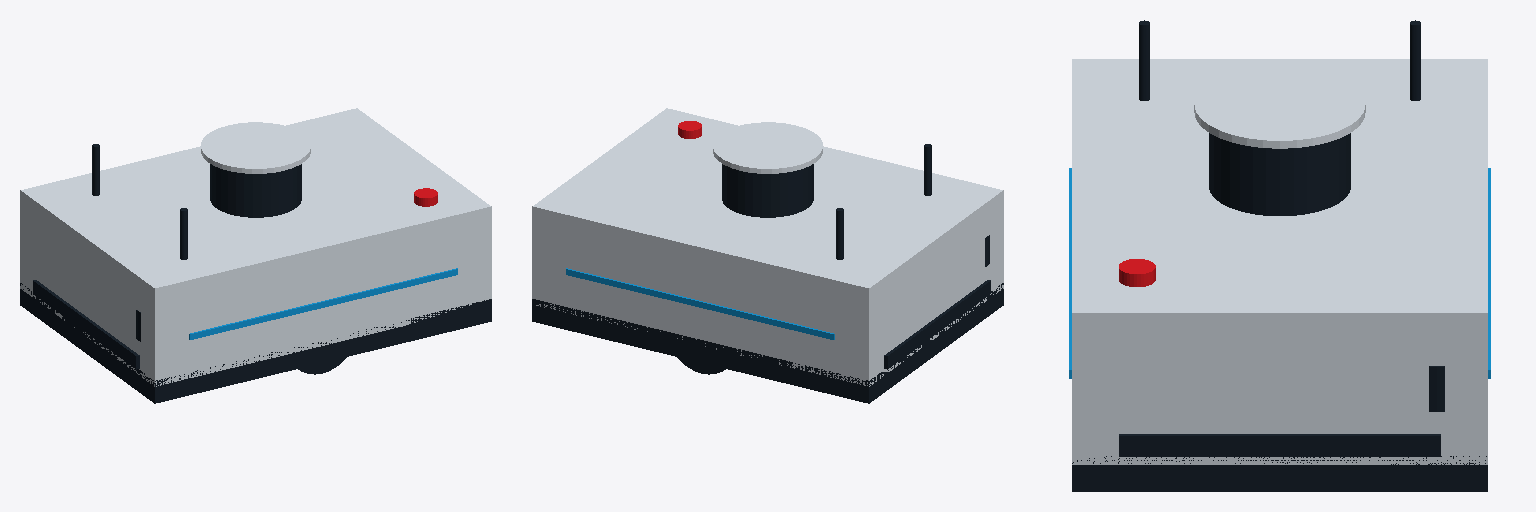
robot.urdf — SEER AMB-300XS - lightweight visual:
<?xml version='1.0' encoding='utf-8'?>
<robot name="SEER AMB-300XS - lightweight visual">
  <material name="white">
    <color rgba=".88 .91 .94 1" />
  </material>
  <material name="dark">
    <color rgba=".12 .16 .20 1" />
  </material>
  <material name="blue">
    <color rgba=".10 .63 .89 1" />
  </material>
  <material name="red">
    <color rgba=".90 .13 .16 1" />
  </material>
  <link name="base_link">
    <visual>
      <origin xyz="0 0 0.185" rpy="0 0 0" />
      <geometry>
        <box size="0.842 0.582 0.235" />
      </geometry>
      <material name="white" />
    </visual>
    <visual>
      <origin xyz="0 0 0.0545" rpy="0 0 0" />
      <geometry>
        <box size="0.842 0.582 0.055" />
      </geometry>
      <material name="dark" />
    </visual>
    <visual>
      <origin xyz="0 0 0.2935" rpy="0 0 0" />
      <geometry>
        <box size="0.73 0.48 0.018" />
      </geometry>
      <material name="white" />
    </visual>
    <visual>
      <origin xyz="0 -0.292 0.168" rpy="0 0 0" />
      <geometry>
        <box size="0.67 0.008 0.014" />
      </geometry>
      <material name="blue" />
    </visual>
    <visual>
      <origin xyz="0 0.292 0.168" rpy="0 0 0" />
      <geometry>
        <box size="0.67 0.008 0.014" />
      </geometry>
      <material name="blue" />
    </visual>
    <visual>
      <origin xyz="-0.423 0 0.1" rpy="0 0 0" />
      <geometry>
        <box size="0.012 0.45 0.032" />
      </geometry>
      <material name="dark" />
    </visual>
    <visual>
      <origin xyz="-0.37224 -0.22 0.18543" rpy="0 0 0" />
      <geometry>
        <cylinder radius="0.05" length="0.07" />
      </geometry>
      <material name="dark" />
    </visual>
    <visual>
      <origin xyz="0.423 0 0.1" rpy="0 0 0" />
      <geometry>
        <box size="0.012 0.45 0.032" />
      </geometry>
      <material name="dark" />
    </visual>
    <visual>
      <origin xyz="0.37224 0.22 0.18543" rpy="0 0 0" />
      <geometry>
        <cylinder radius="0.05" length="0.07" />
      </geometry>
      <material name="dark" />
    </visual>
    <visual>
      <origin xyz="0 -0.268 0.09" rpy="1.5707963267948966 0 0" />
      <geometry>
        <cylinder radius="0.09" length="0.04" />
      </geometry>
      <material name="dark" />
    </visual>
    <visual>
      <origin xyz="0 -0.268 0.09" rpy="1.5707963267948966 0 0" />
      <geometry>
        <cylinder radius="0.054" length="0.042" />
      </geometry>
      <material name="blue" />
    </visual>
    <visual>
      <origin xyz="0 0.268 0.09" rpy="1.5707963267948966 0 0" />
      <geometry>
        <cylinder radius="0.09" length="0.04" />
      </geometry>
      <material name="dark" />
    </visual>
    <visual>
      <origin xyz="0 0.268 0.09" rpy="1.5707963267948966 0 0" />
      <geometry>
        <cylinder radius="0.054" length="0.042" />
      </geometry>
      <material name="blue" />
    </visual>
    <visual>
      <origin xyz="-0.3 -0.2 0.045" rpy="1.5707963267948966 0 0" />
      <geometry>
        <cylinder radius="0.045" length="0.026" />
      </geometry>
      <material name="dark" />
    </visual>
    <visual>
      <origin xyz="-0.3 0.2 0.045" rpy="1.5707963267948966 0 0" />
      <geometry>
        <cylinder radius="0.045" length="0.026" />
      </geometry>
      <material name="dark" />
    </visual>
    <visual>
      <origin xyz="0.3 -0.2 0.045" rpy="1.5707963267948966 0 0" />
      <geometry>
        <cylinder radius="0.045" length="0.026" />
      </geometry>
      <material name="dark" />
    </visual>
    <visual>
      <origin xyz="0.3 0.2 0.045" rpy="1.5707963267948966 0 0" />
      <geometry>
        <cylinder radius="0.045" length="0.026" />
      </geometry>
      <material name="dark" />
    </visual>
    <visual>
      <origin xyz="0.31 -0.2 0.313" rpy="0 0 0" />
      <geometry>
        <cylinder radius="0.026" length="0.02" />
      </geometry>
      <material name="red" />
    </visual>
    <visual>
      <origin xyz="-0.29 -0.19 0.355" rpy="0 0 0" />
      <geometry>
        <cylinder radius="0.008" length="0.13" />
      </geometry>
      <material name="dark" />
    </visual>
    <visual>
      <origin xyz="-0.29 0.19 0.355" rpy="0 0 0" />
      <geometry>
        <cylinder radius="0.008" length="0.13" />
      </geometry>
      <material name="dark" />
    </visual>
    <visual>
      <origin xyz="0 0 0.3625" rpy="0 0 0" />
      <geometry>
        <cylinder radius="0.1" length="0.12" />
      </geometry>
      <material name="dark" />
    </visual>
    <visual>
      <origin xyz="0 0 0.4225" rpy="0 0 0" />
      <geometry>
        <cylinder radius="0.12" length="0.012" />
      </geometry>
      <material name="white" />
    </visual>
  </link>
</robot>

--- Render facts (derived) ---
3 views of the same robot in one strip: view 1: azimuth 30°, elevation 25°; view 2: azimuth 150°, elevation 25°; view 3: azimuth 270°, elevation 25° (orthographic).
Model SEER AMB-300XS - lightweight visual with 1 links and 0 joints (none), rooted at base_link, posed every joint at zero.
Visible links, largest first — view 1: base_link; view 2: base_link; view 3: base_link.
Link boxes in pixels (box(x1,y1,x2,y2)): base_link: box(20, 108, 491, 403); base_link: box(532, 108, 1003, 403); base_link: box(1069, 20, 1490, 491).
Size in the robot's own frame: 0.858 by 0.592 by 0.4285 metres.
Geometry: primitives only (box / cylinder / sphere), no mesh files.
